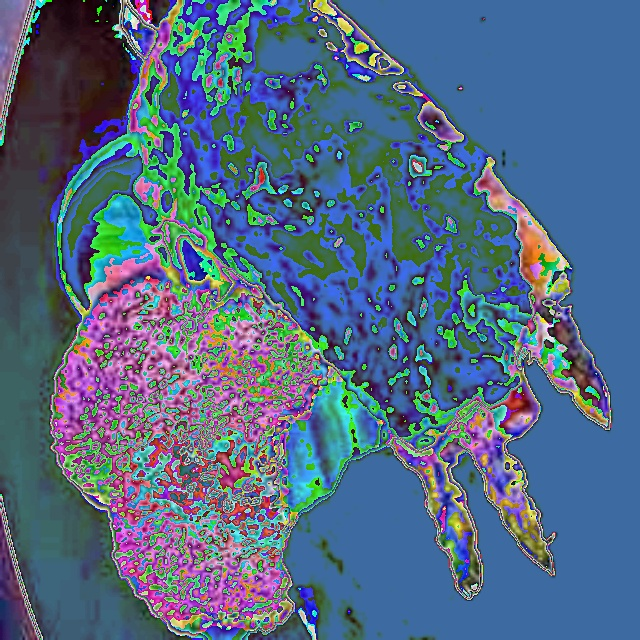background: (50, 0, 612, 640)
